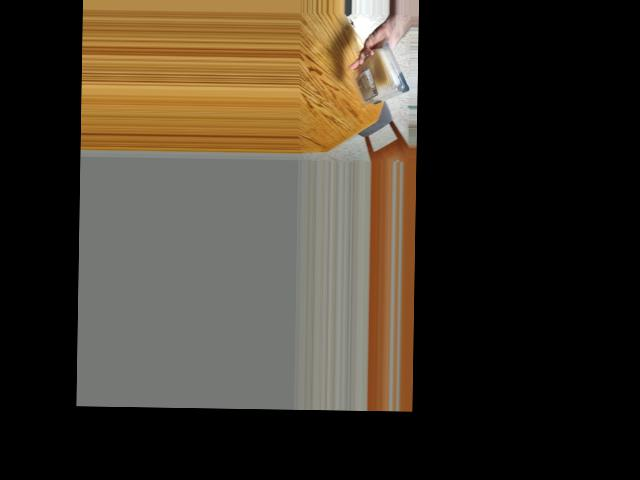cheese: (359, 46, 401, 105)
